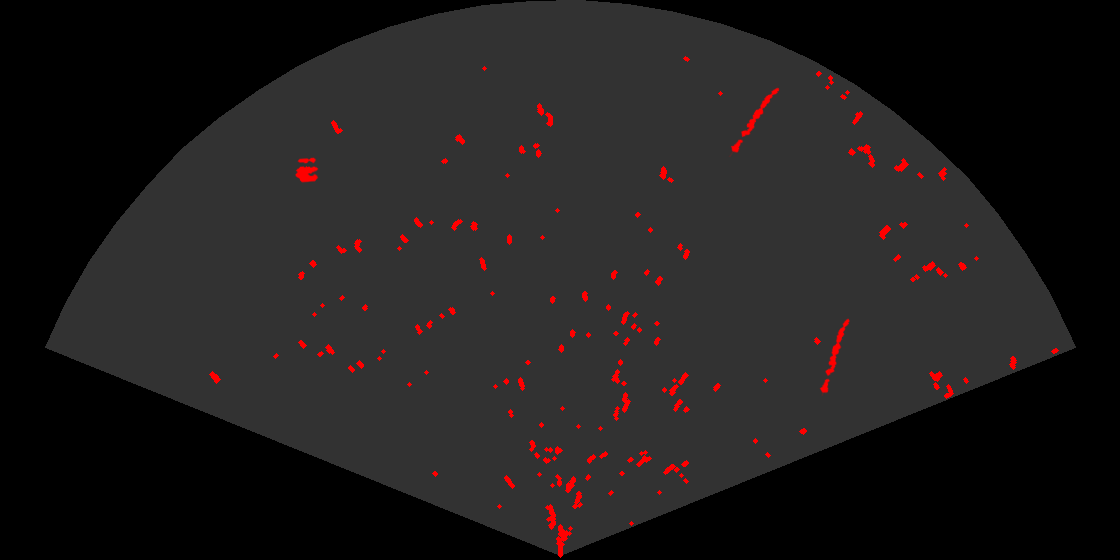ball: (294, 156, 320, 184)
chain: (727, 86, 781, 157), (818, 317, 851, 396)
